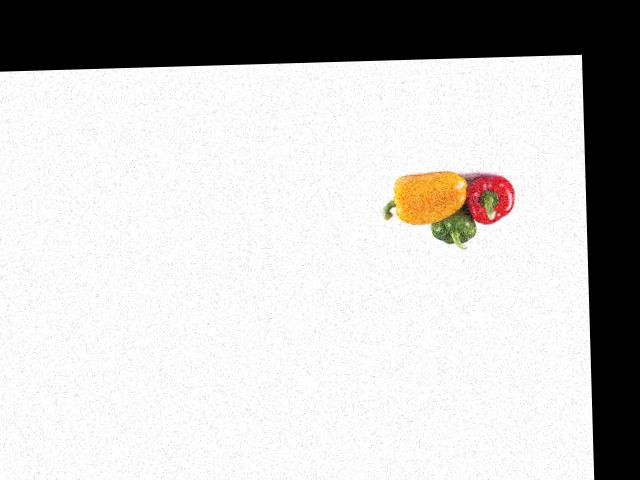bell_pepper: (425, 202, 481, 250)
